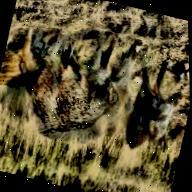boar: (15, 15, 147, 154)
